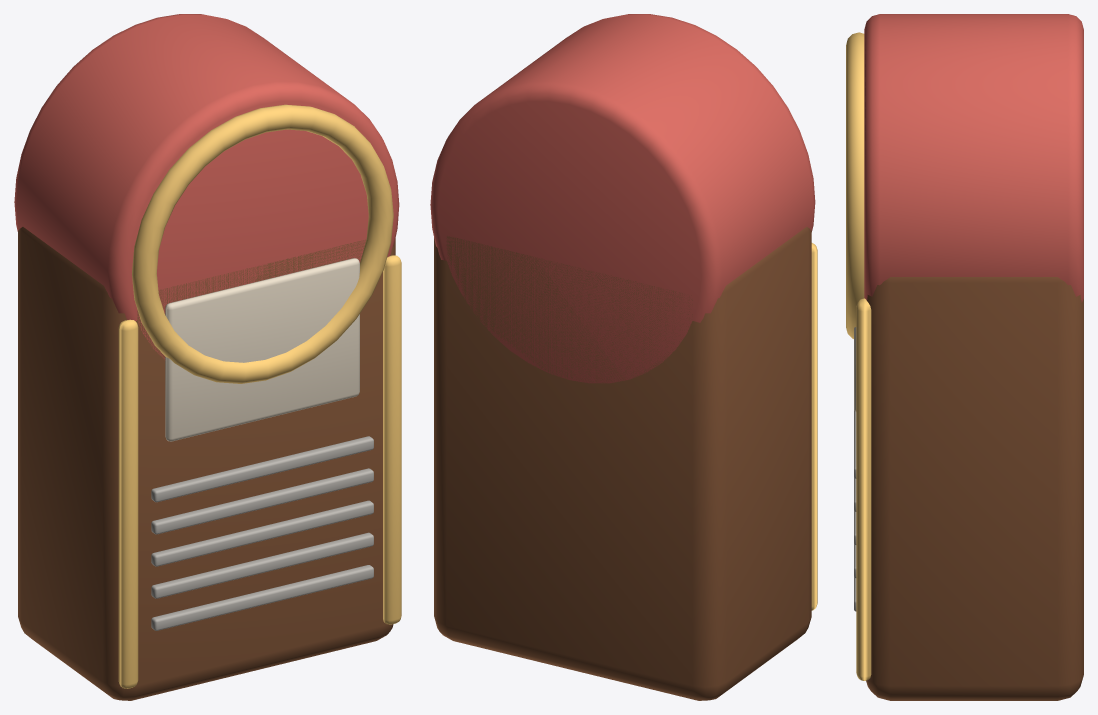
File: jukebox.glb
3 renders of one model, left to right at view 1: azimuth 30°, elevation 25°; view 2: azimuth 150°, elevation 25°; view 3: azimuth 270°, elevation 25°, orthographic. The views are drawn at different scales.
Visible parts, largest first — view 1: caisse, arche, vitre, neon, tube0, tube1, grille2, grille3, grille1, grille0, grille4; view 2: caisse, arche, tube0; view 3: caisse, arche, tube1, neon.
Boxes of the visible parts, box(x1,y1,x2,y2) form: caisse: box(18, 227, 395, 700); arche: box(14, 14, 399, 360); vitre: box(165, 258, 359, 441); neon: box(132, 104, 393, 383); tube0: box(118, 319, 138, 688); tube1: box(383, 255, 401, 624); grille2: box(151, 500, 373, 566); grille3: box(151, 468, 373, 534); grille1: box(151, 532, 373, 598); grille0: box(151, 565, 373, 630); grille4: box(151, 436, 373, 502); caisse: box(434, 227, 811, 700); arche: box(430, 14, 815, 383); tube0: box(811, 243, 817, 610); caisse: box(866, 277, 1083, 700); arche: box(864, 14, 1083, 302); tube1: box(856, 298, 871, 680); neon: box(846, 32, 864, 338).
Size of the model in its own units: 0.66 by 1.28 by 0.455.
